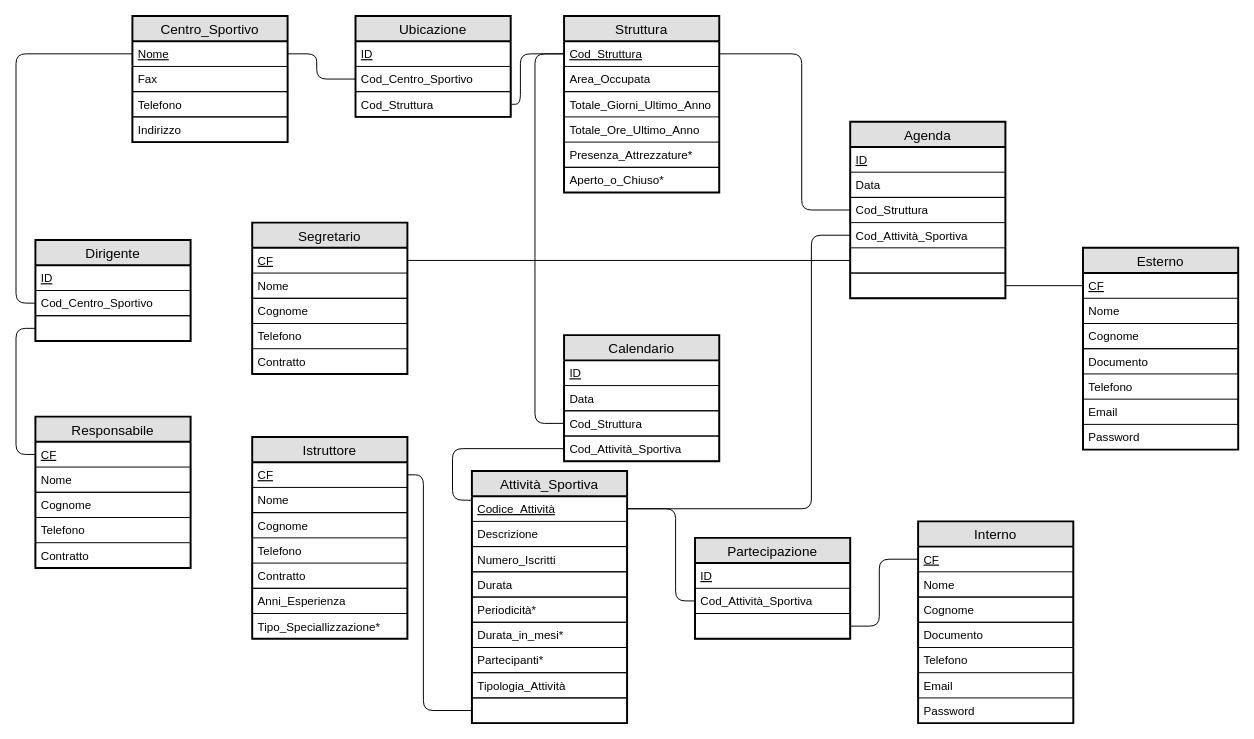
Image size: 1254x739. Some labels were removed from this diagram. The shapes that lost their labels are listed below. From the top down, each one's centre as x and y in pixels, then its label:
point 927,260: Cod_Segretario
point 927,285: Cod_Esterno
point 112,328: Cod_Responsabile
point 772,626: Cod_Interno
point 549,710: Allenatore_Assegnato
